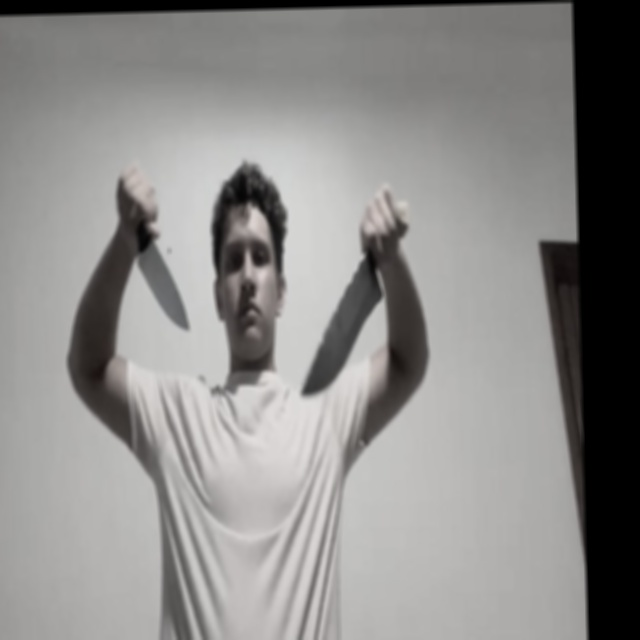Sharp-Object: (299, 254, 385, 396), (138, 239, 189, 328)
